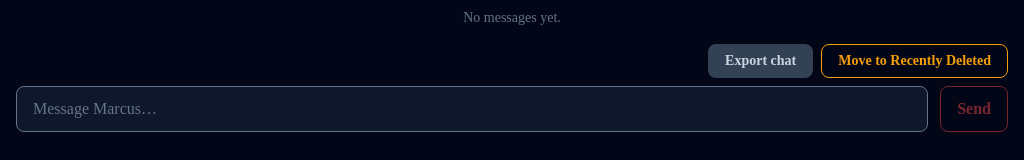
Test case: ChatConversation › removes the dimmed message when the send is refused
Type "Hello" into the field with placeholder "Message Marcus…" at [472, 109], box x1=16 y1=86 x2=928 y2=132
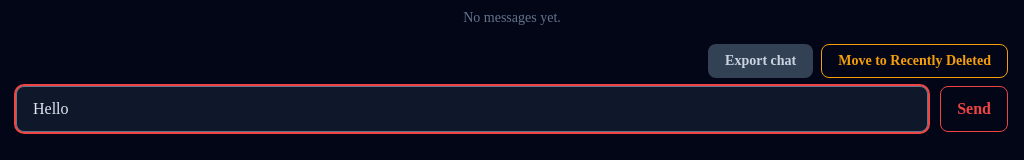
Click the button "Send" at [974, 109], box x1=940 y1=86 x2=1008 y2=132
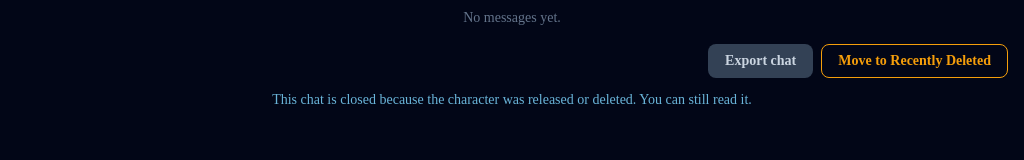
Check: the text "This chat is closed" is shown, box x1=272 y1=92 x2=752 y2=107
